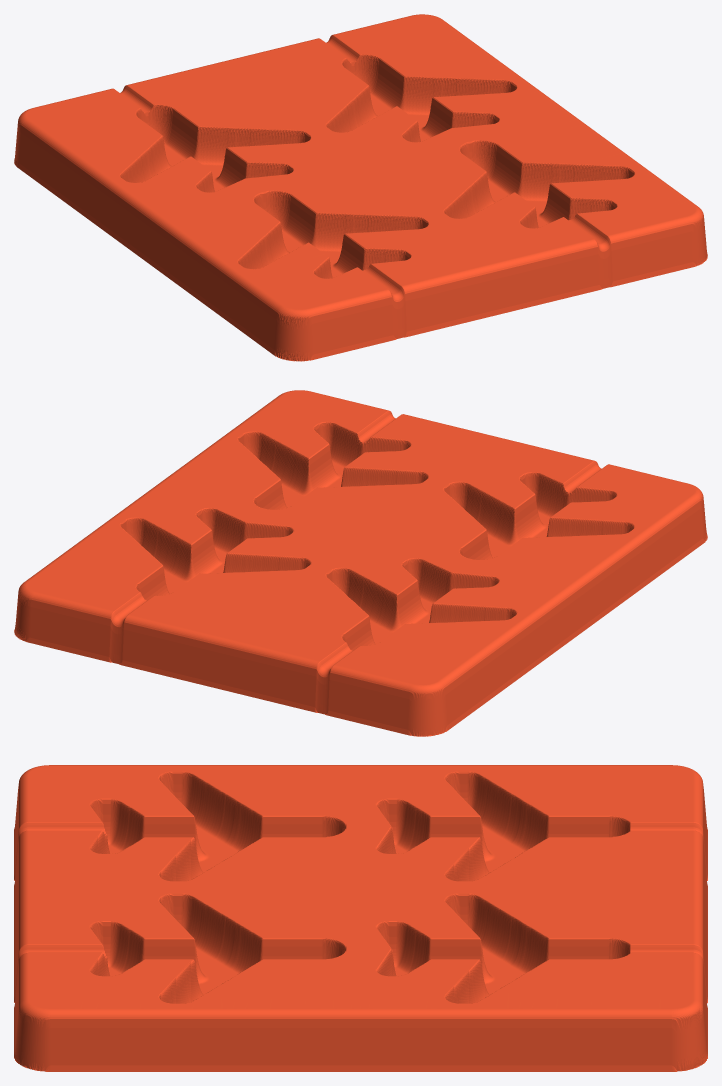
Rendered from mold.glb.
3 renders of one model, top to bottom at view 1: azimuth 30°, elevation 25°; view 2: azimuth 150°, elevation 25°; view 3: azimuth 270°, elevation 25°, orthographic. The views are drawn at different scales.
Parts seen in each view (by area): view 1: geometry_0; view 2: geometry_0; view 3: geometry_0.
Part boxes in pixels (x1,y1,x2,y2): geometry_0: (14,14,707,361); geometry_0: (14,390,707,736); geometry_0: (14,765,707,1071).
Size of the model in its own units: 0.1497 by 0.0155 by 0.1719.
